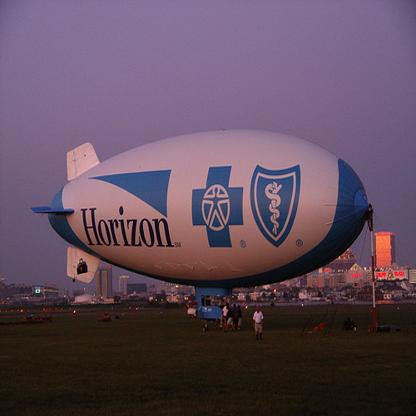Airship: (24, 134, 381, 324)
